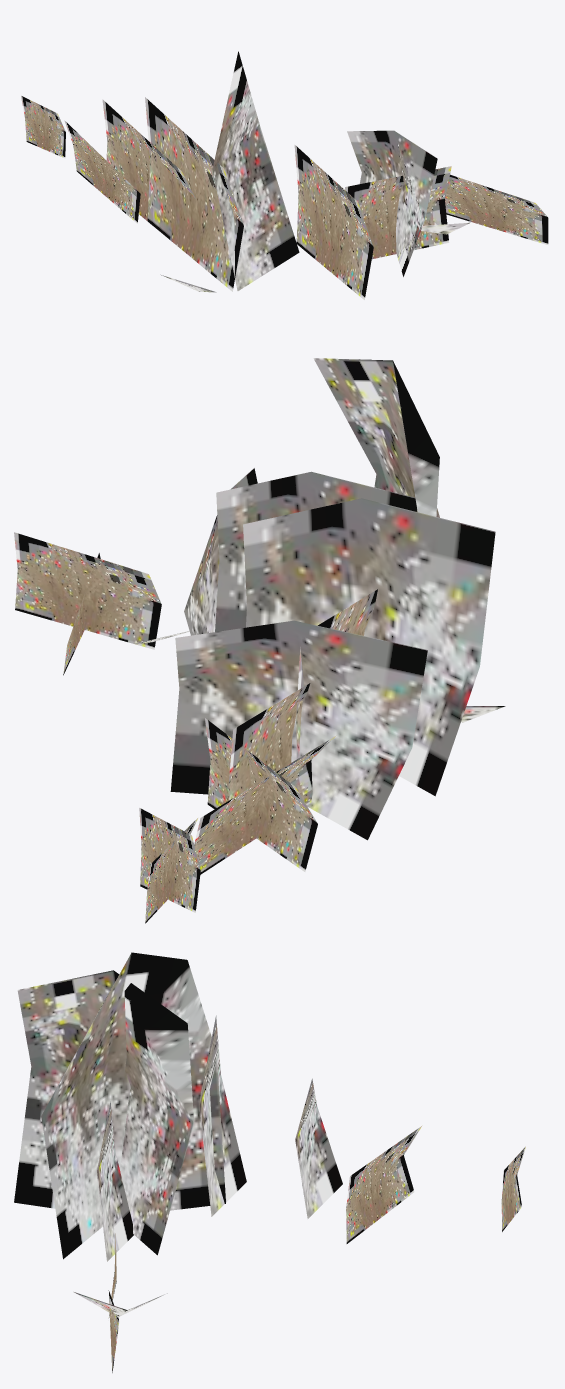
File: cracks_grass_i.glb
The picture shows the model from 3 angles, top to bottom: view 1: azimuth 30°, elevation 25°; view 2: azimuth 150°, elevation 25°; view 3: azimuth 270°, elevation 25°; orthographic projection. The views are drawn at different scales.
Parts seen in each view (by area): view 1: cracks_grass_i; view 2: cracks_grass_i; view 3: cracks_grass_i.
Boxes of the visible parts, x1,y1,x2,y2 form: cracks_grass_i: [21, 51, 548, 299]; cracks_grass_i: [14, 358, 505, 923]; cracks_grass_i: [14, 952, 525, 1372].
Size of the model in its own units: 1.91 by 1.23 by 2.14.
1 material, 1 textured.
